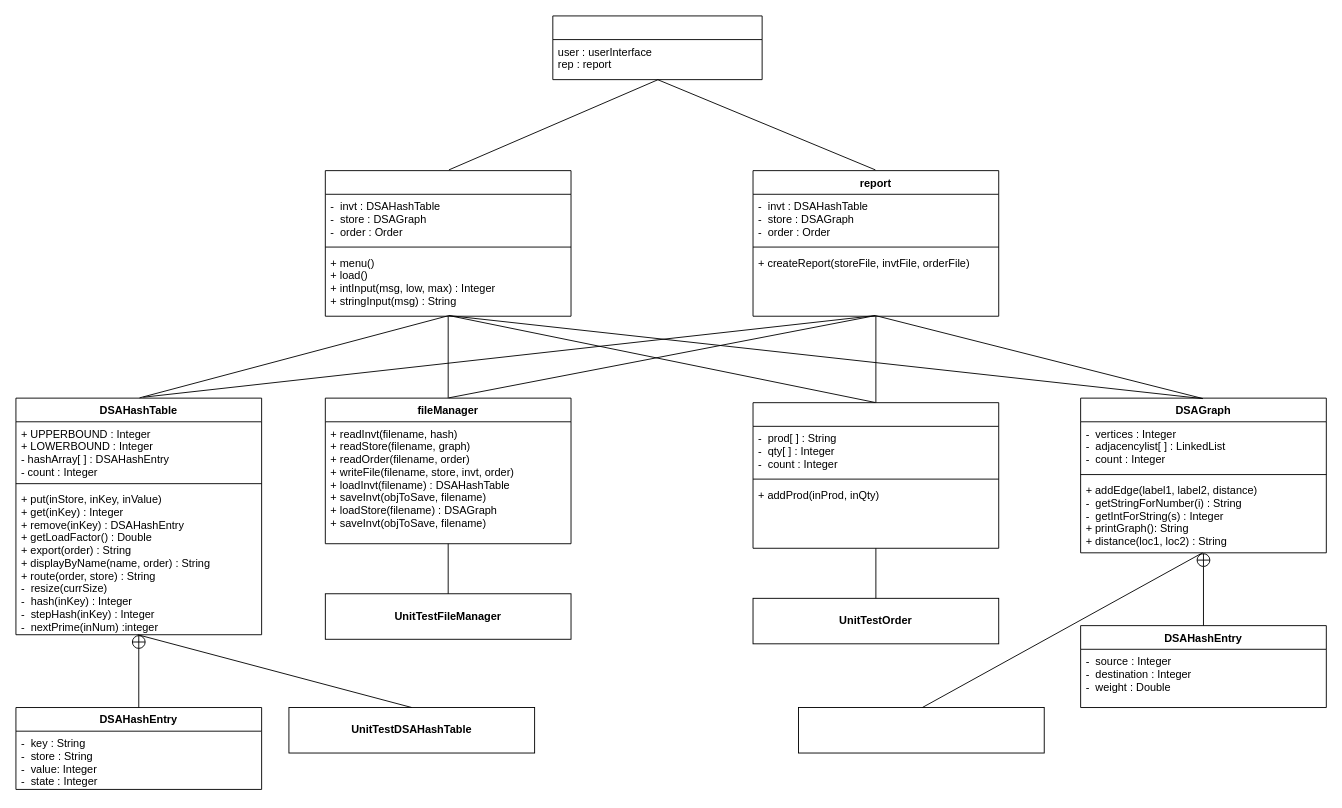
Image size: 1342x808. Some labels were removed from this diagram. The box of each missing label's shape, as (x1, y1, x2, y2) in pixels:
droneDirect: (552, 15, 762, 80)
Order: (752, 402, 999, 548)
UnitTestDSAGraph: (798, 707, 1044, 753)
userInterface: (324, 170, 571, 316)
